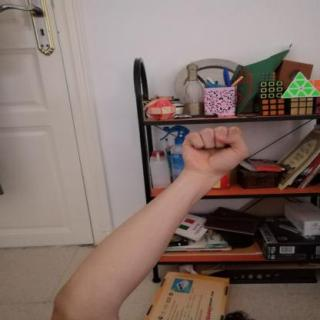SAD: (172, 120, 256, 182)
